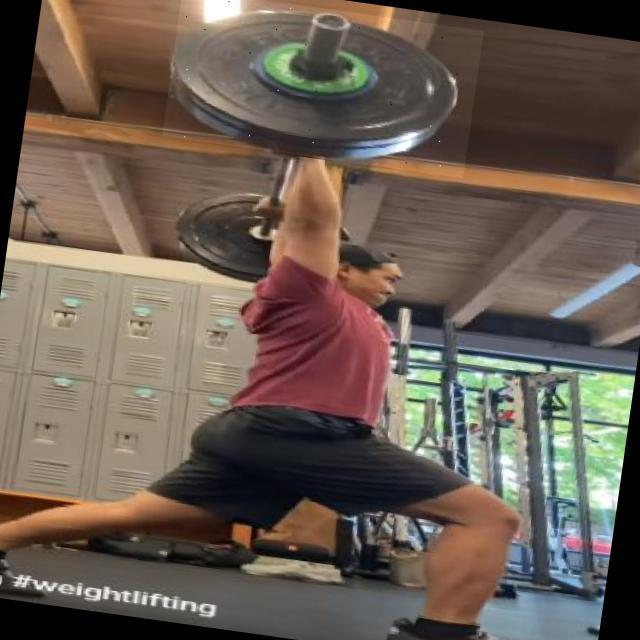barbell: (163, 1, 485, 179)
